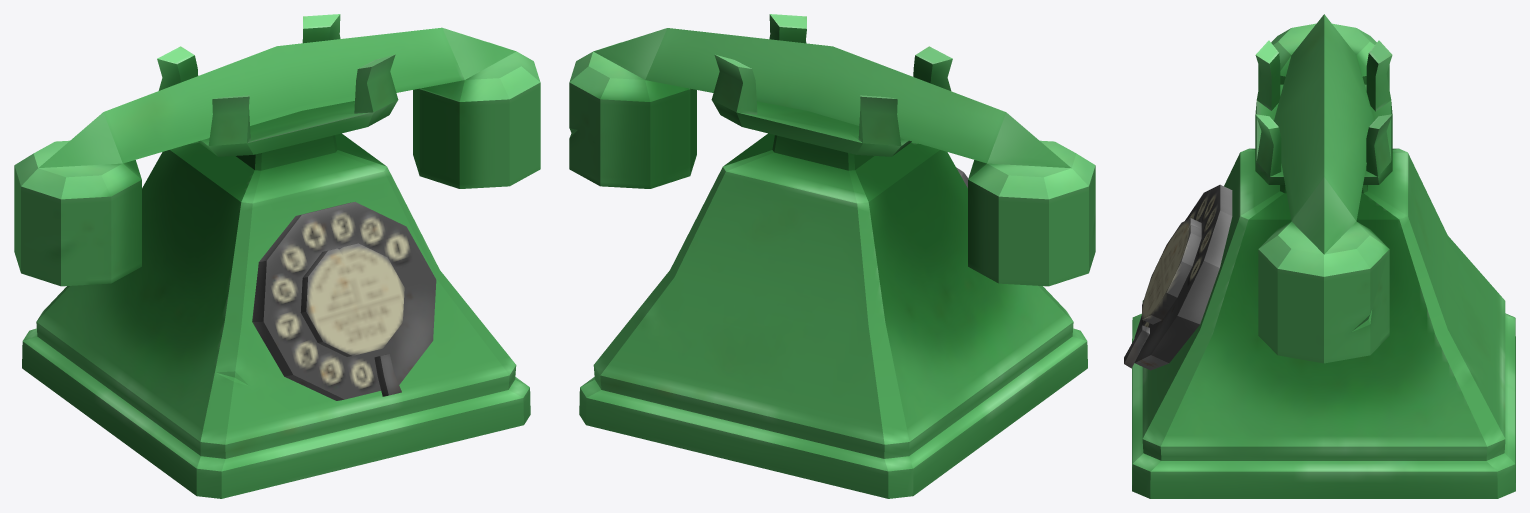
File: telephone_object.fbx
The picture shows the model from 3 angles, left to right: view 1: azimuth 30°, elevation 25°; view 2: azimuth 150°, elevation 25°; view 3: azimuth 270°, elevation 25°; orthographic projection.
Parts seen in each view (by area): view 1: telephone; view 2: telephone; view 3: telephone.
Part boxes in pixels (box(x1,y1,x2,y2)): telephone: box(14, 14, 540, 498); telephone: box(569, 14, 1095, 498); telephone: box(1124, 14, 1515, 498).
Bounding box in the file's own units: 7.16 × 4.6 × 4.76.
